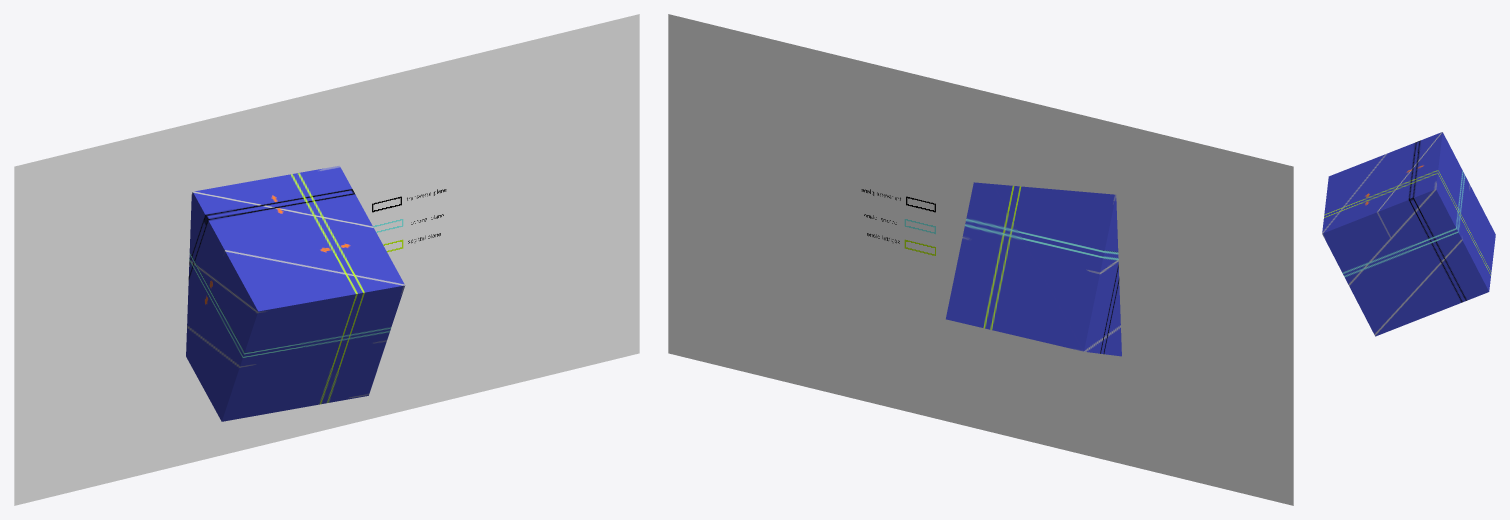
Rendered from 层厚示意.glb.
The picture shows the model from 3 angles, left to right: view 1: azimuth 30°, elevation 25°; view 2: azimuth 150°, elevation 25°; view 3: azimuth 270°, elevation 25°; orthographic projection. The views are drawn at different scales.
Visible parts, largest first — view 1: mesh_id1, mesh_id31; view 2: mesh_id1, mesh_id31; view 3: mesh_id31.
Part boxes in pixels (x1,y1,x2,y2): mesh_id1: (14, 14, 639, 505); mesh_id31: (186, 165, 405, 421); mesh_id1: (668, 14, 1293, 505); mesh_id31: (946, 182, 1121, 356); mesh_id31: (1322, 132, 1495, 336).
Bounding box in the file's own units: 3.14 × 1.63 × 0.9891.
Materials: 2 (2 with a texture image).
